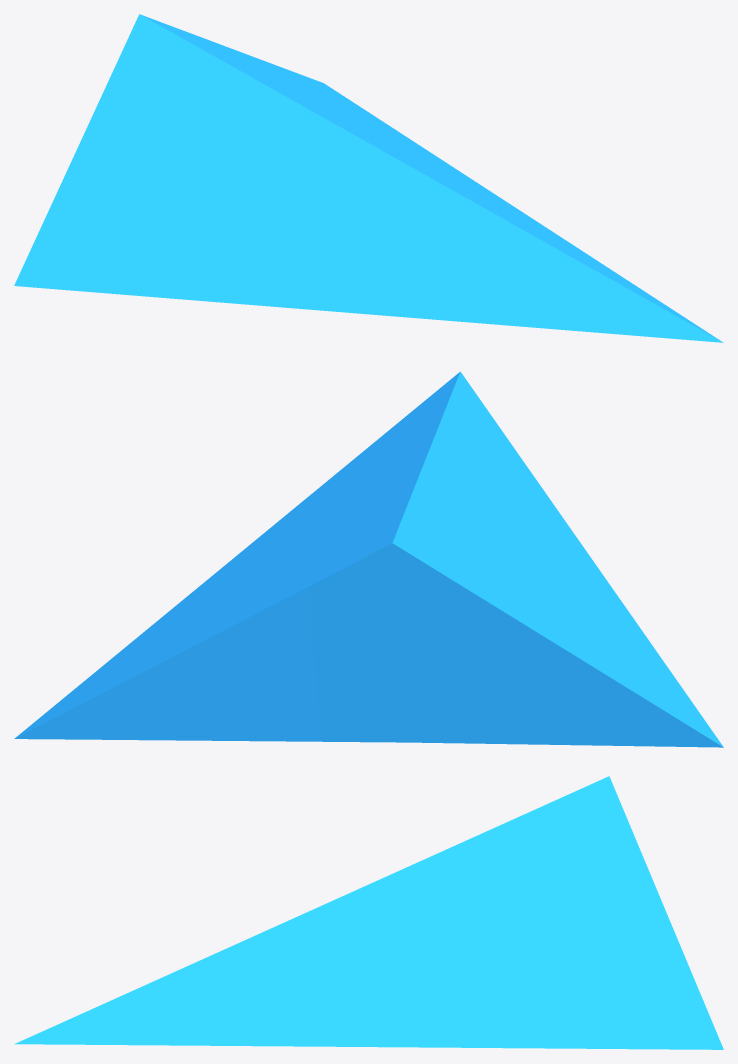
The model's file is AR Pointer.glb.
The picture shows the model from 3 angles, top to bottom: view 1: azimuth 30°, elevation 25°; view 2: azimuth 150°, elevation 25°; view 3: azimuth 270°, elevation 25°; orthographic projection. The views are drawn at different scales.
Visible parts, largest first — view 1: Cone - baked; view 2: Cone - baked; view 3: Cone - baked.
Part boxes in pixels (bbox=[...]): Cone - baked: bbox=[14, 14, 723, 342]; Cone - baked: bbox=[14, 371, 723, 747]; Cone - baked: bbox=[14, 776, 723, 1049].
Bounding box in the file's own units: 0.075 × 0.027 × 0.1073.
